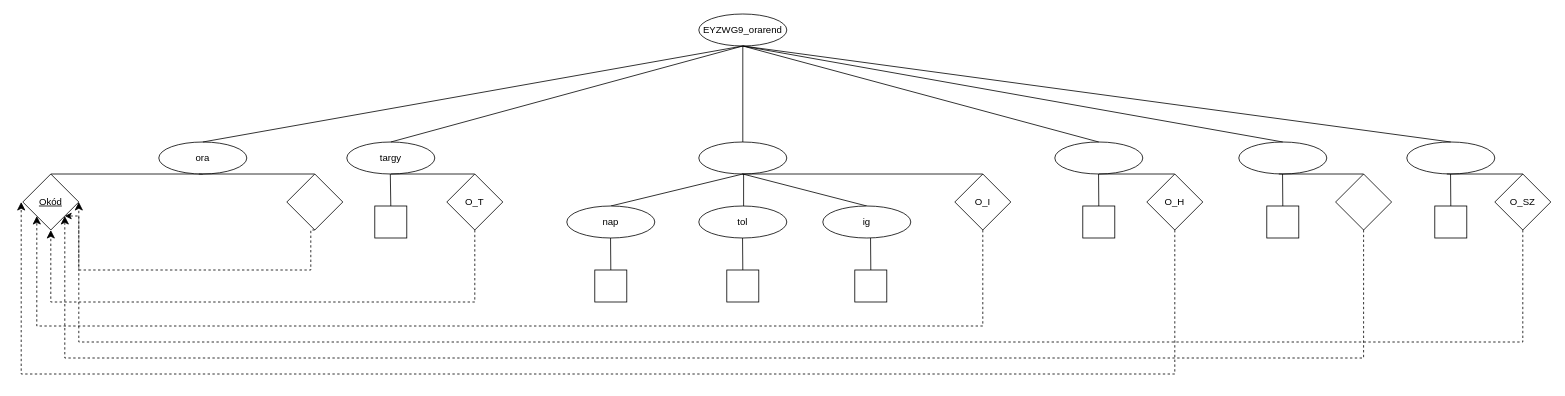
This 1565x396 diagram has some shape labels left out. Here are the shapes that lost their labels. From the top down, the box of each, then its label:
(698, 141, 787, 174): idopont
(1054, 141, 1143, 174): helyszin
(1238, 141, 1327, 174): oktato
(1406, 141, 1495, 174): szak
(286, 173, 343, 230): O_T_O
(1335, 173, 1392, 230): O_O
